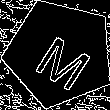M_NE: (25, 20, 94, 87)
